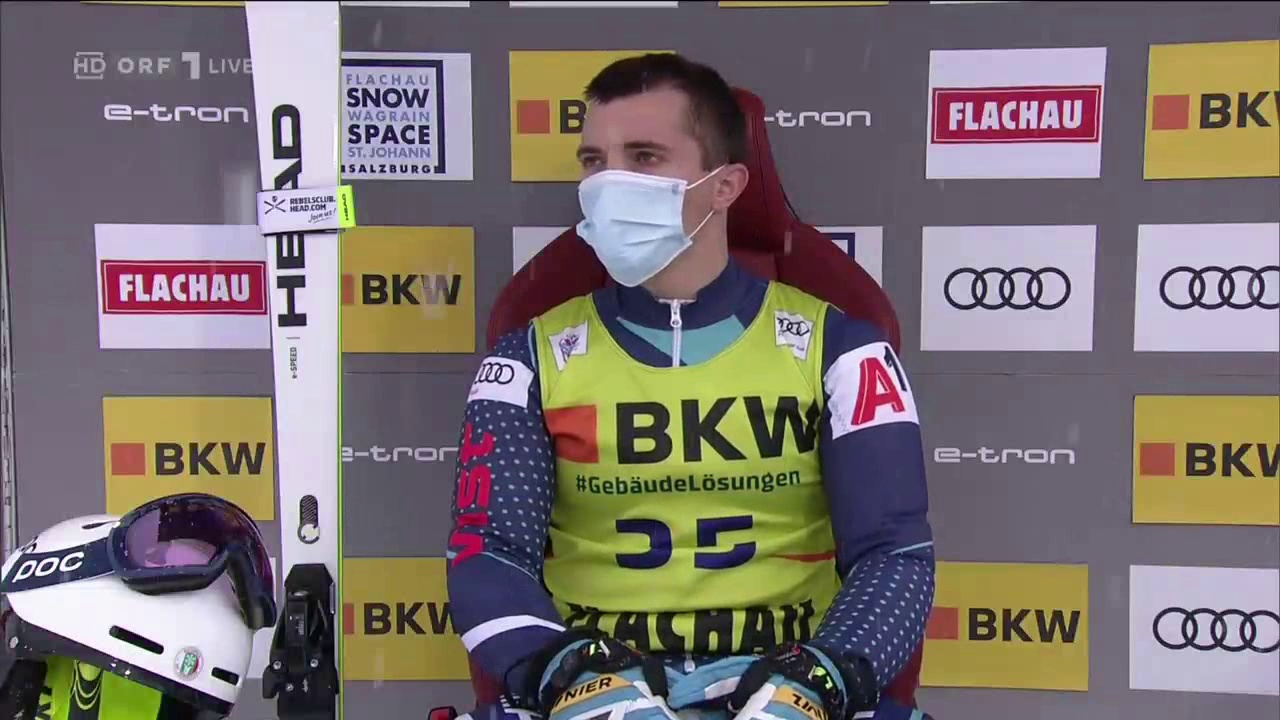BKW: (1151, 46, 1277, 160), (1134, 412, 1277, 498), (111, 419, 265, 492), (938, 581, 1075, 662)
a1: (848, 349, 916, 428)
audi: (1152, 608, 1278, 660), (1160, 263, 1279, 317), (945, 266, 1069, 316)
etron: (100, 101, 251, 130), (934, 444, 1081, 470), (338, 442, 481, 468), (745, 108, 880, 135)
flachau: (932, 85, 1105, 147), (100, 260, 271, 318)
